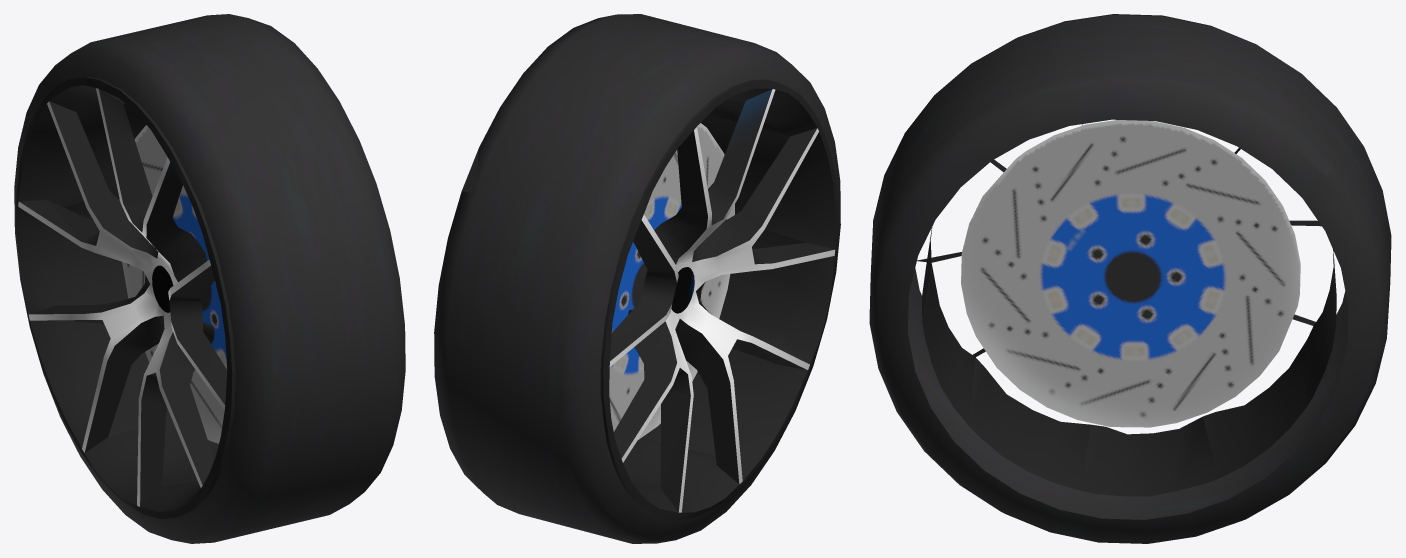
The model's file is WheelFront_R.glb.
The picture shows the model from 3 angles, left to right: view 1: azimuth 30°, elevation 25°; view 2: azimuth 150°, elevation 25°; view 3: azimuth 270°, elevation 25°; orthographic projection.
Parts seen in each view (by area): view 1: SportCoupe.001; view 2: SportCoupe.001; view 3: SportCoupe.001.
Boxes of the visible parts, x1=… form: SportCoupe.001: x1=14, y1=14, x2=405, y2=543; SportCoupe.001: x1=434, y1=14, x2=840, y2=543; SportCoupe.001: x1=869, y1=14, x2=1391, y2=543.
Size of the model in its own units: 0.3987 by 0.9912 by 0.9959.
Materials: 1 (1 with a texture image).
